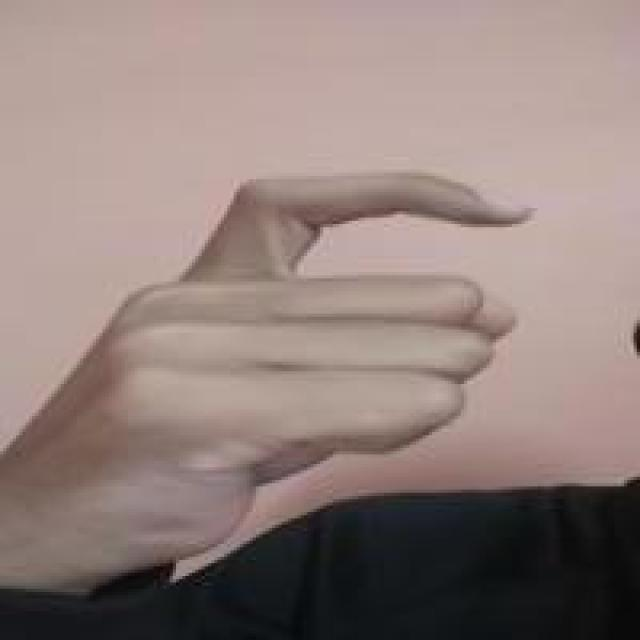X: (27, 168, 552, 565)
